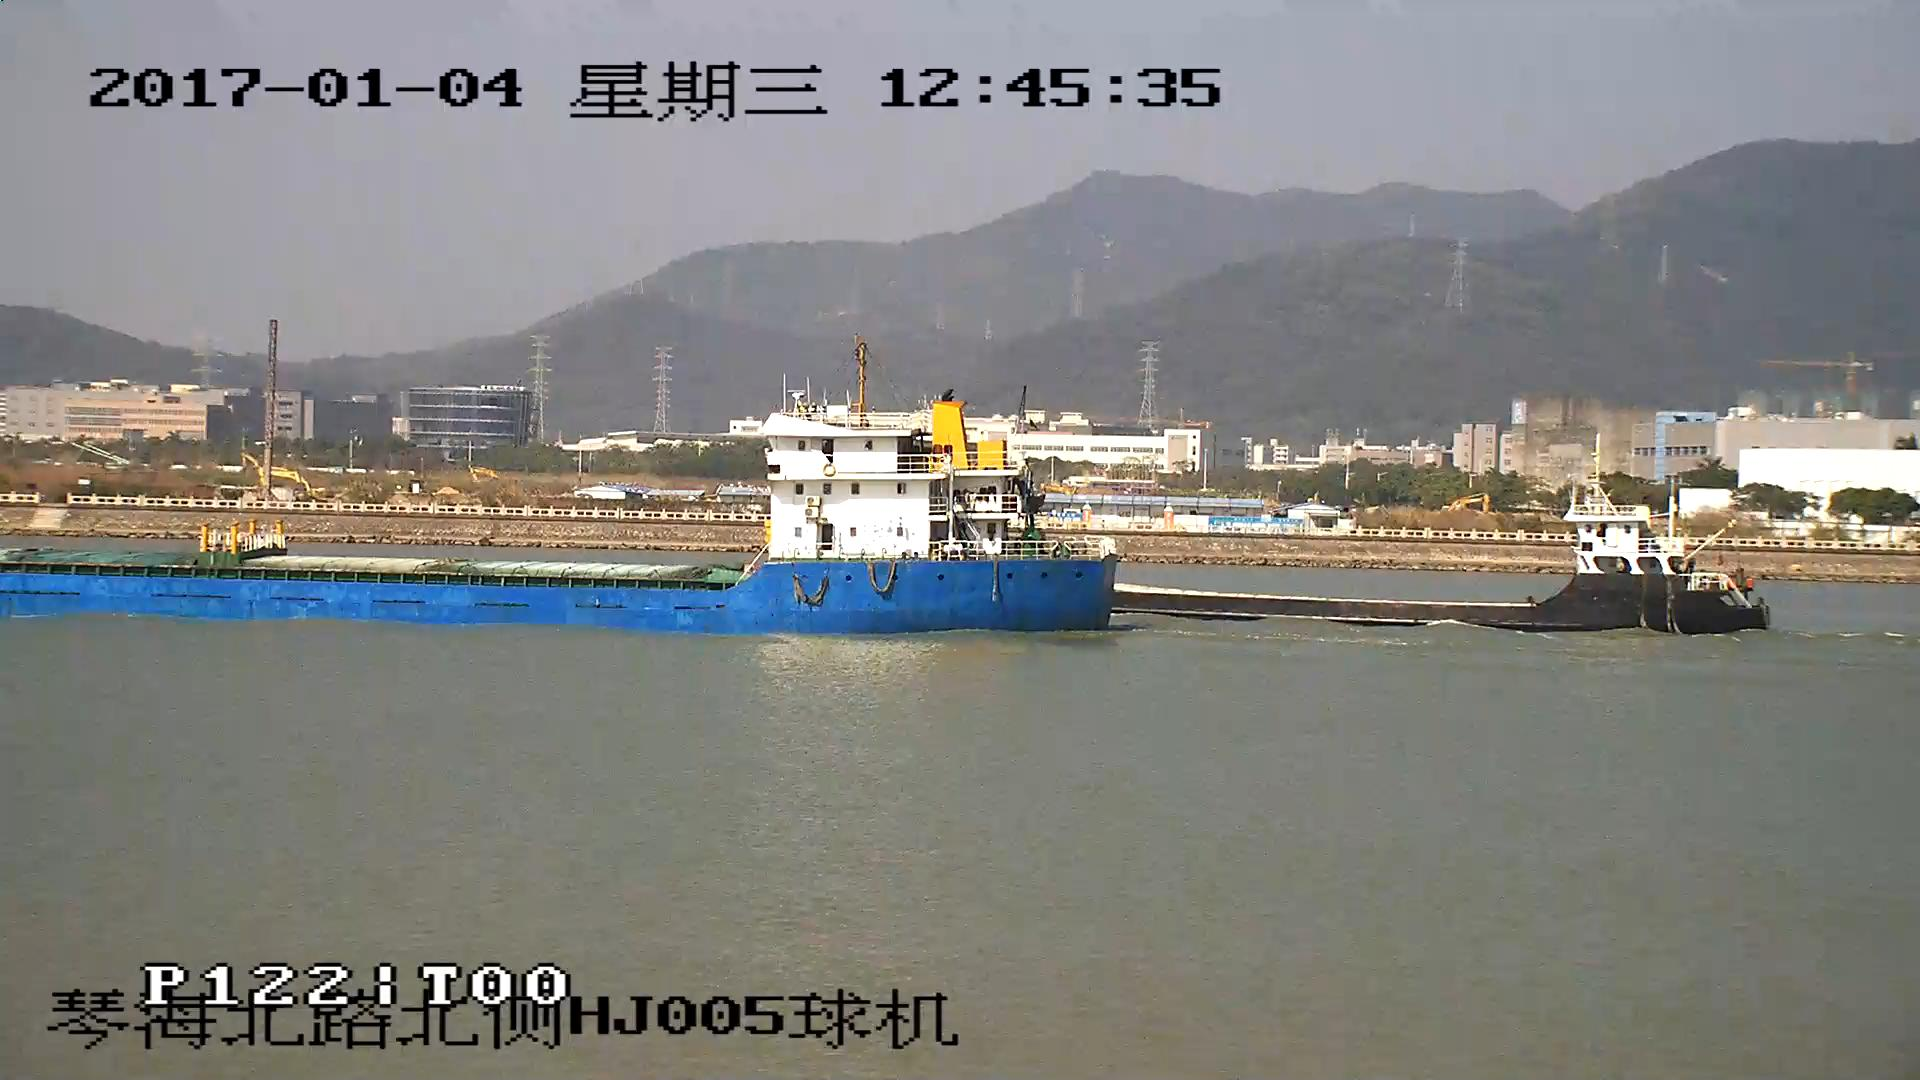general cargo ship: (1, 396, 1119, 635), (1104, 481, 1768, 636)
